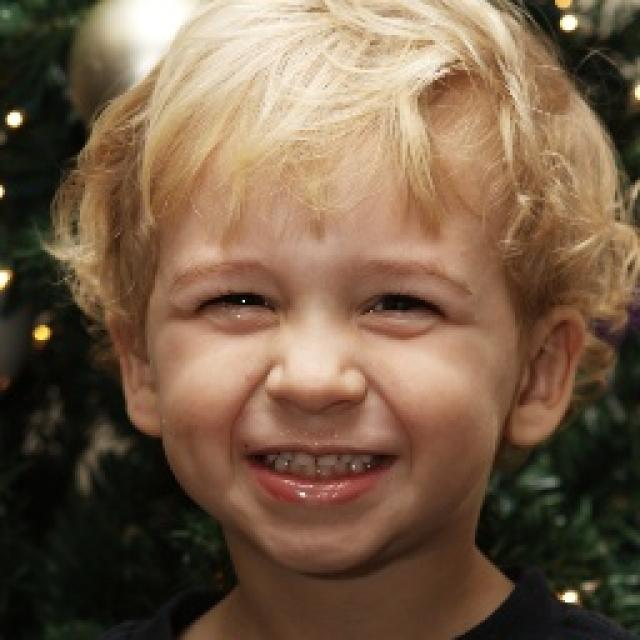earlobe: (126, 382, 164, 438), (503, 403, 542, 449)
eye: (360, 290, 441, 323), (192, 288, 278, 318)
nose: (252, 387, 379, 451)
wholeear: (504, 305, 585, 449), (104, 305, 164, 438)
